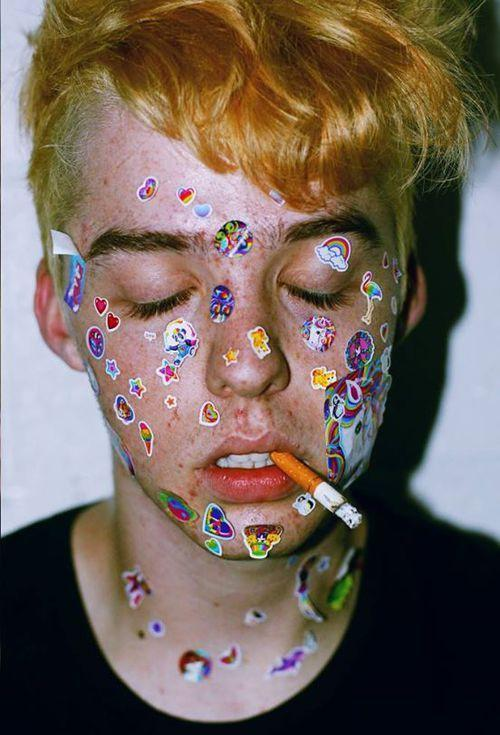cigarette: (269, 451, 365, 529)
